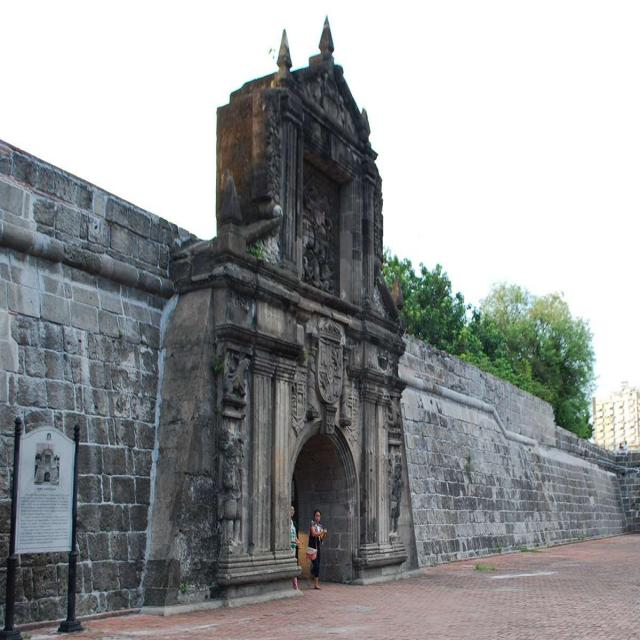Fort Santiago: (0, 18, 628, 640)
